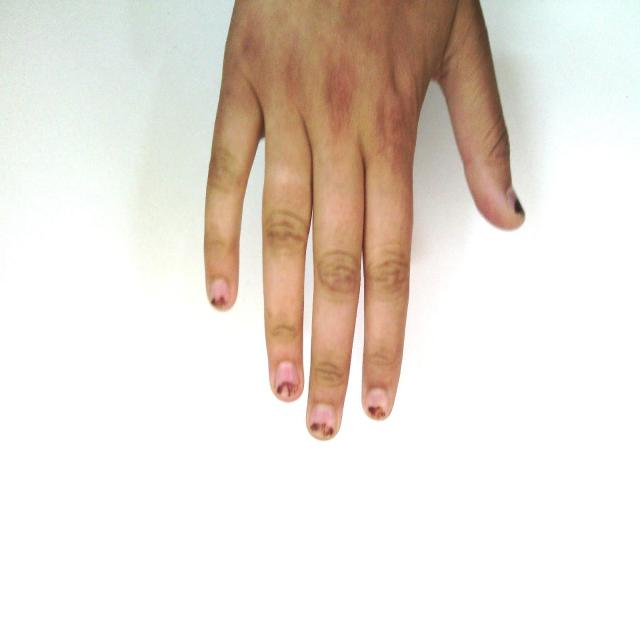others: (153, 0, 555, 438)
